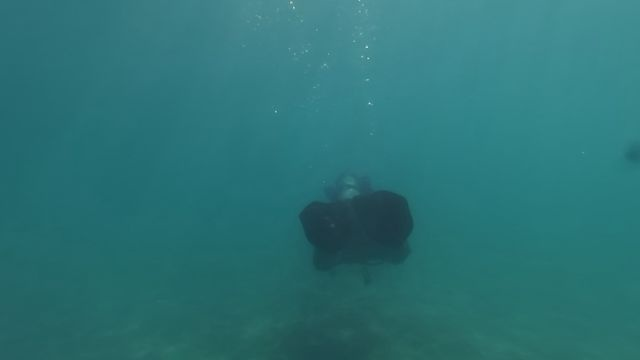Diver: (291, 163, 422, 277)
